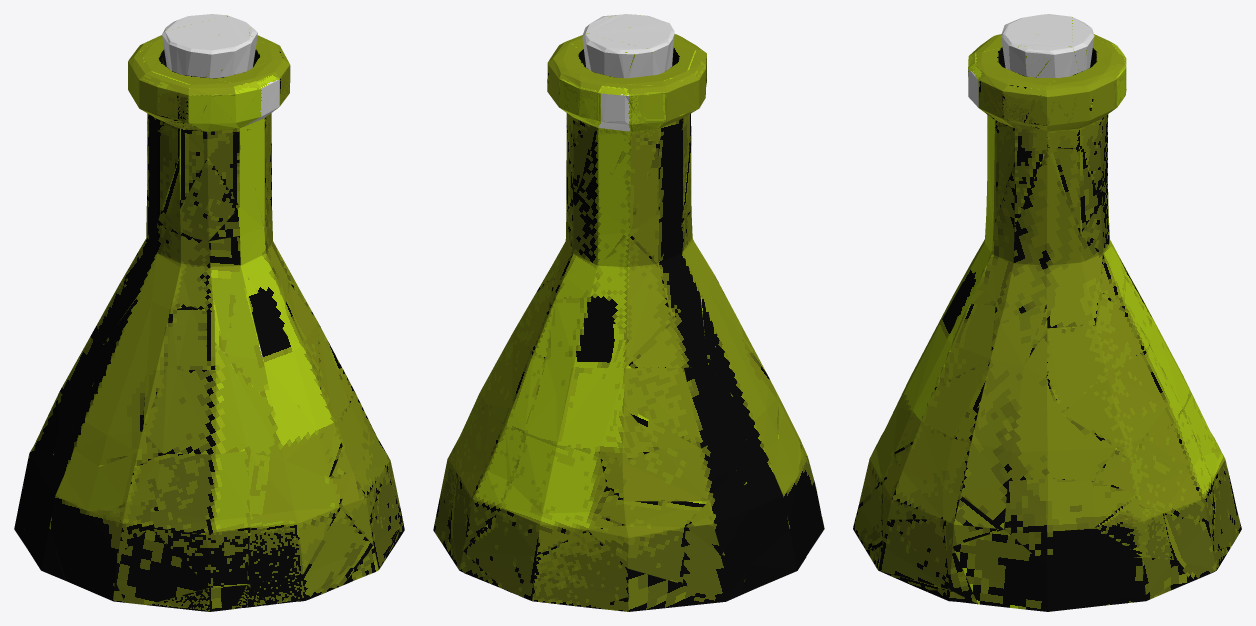
3 views of the same model, side by side, from view 1: azimuth 30°, elevation 25°; view 2: azimuth 150°, elevation 25°; view 3: azimuth 270°, elevation 25° (orthographic).
Parts seen in each view (by area): view 1: OBJ0bc; view 2: OBJ0bc; view 3: OBJ0bc.
Part boxes in pixels (x1,y1,x2,y2): OBJ0bc: (14, 14, 404, 611); OBJ0bc: (433, 14, 824, 611); OBJ0bc: (853, 14, 1241, 611).
Bounding box in the file's own units: 0.1845 × 0.2602 × 0.1843.
Materials: 1 (1 with a texture image).
